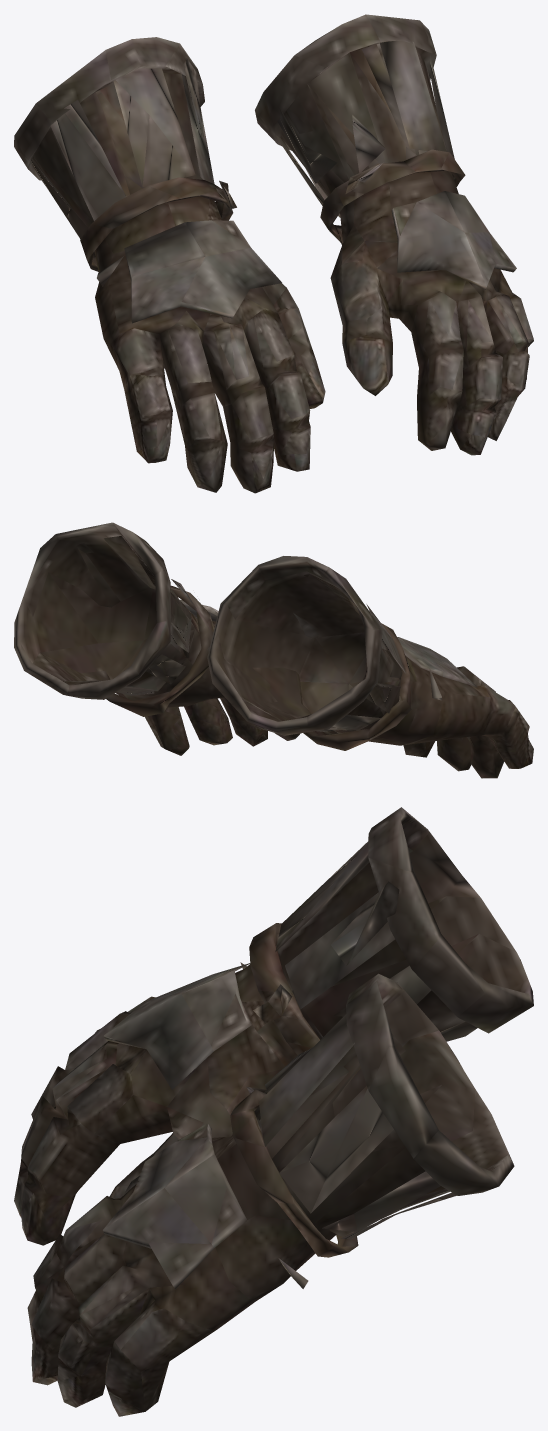
Rendered from g_gloves.glb.
The picture shows the model from 3 angles, top to bottom: view 1: azimuth 30°, elevation 25°; view 2: azimuth 150°, elevation 25°; view 3: azimuth 270°, elevation 25°; orthographic projection. The views are drawn at different scales.
Visible parts, largest first — view 1: g_gloves; view 2: g_gloves; view 3: g_gloves.
Boxes of the visible parts, x1,y1,x2,y2 form: g_gloves: (14,14,533,493); g_gloves: (14,522,533,778); g_gloves: (14,807,533,1416).
Size of the model in its own units: 0.4 by 0.3296 by 0.3456.
1 material, 1 textured.
